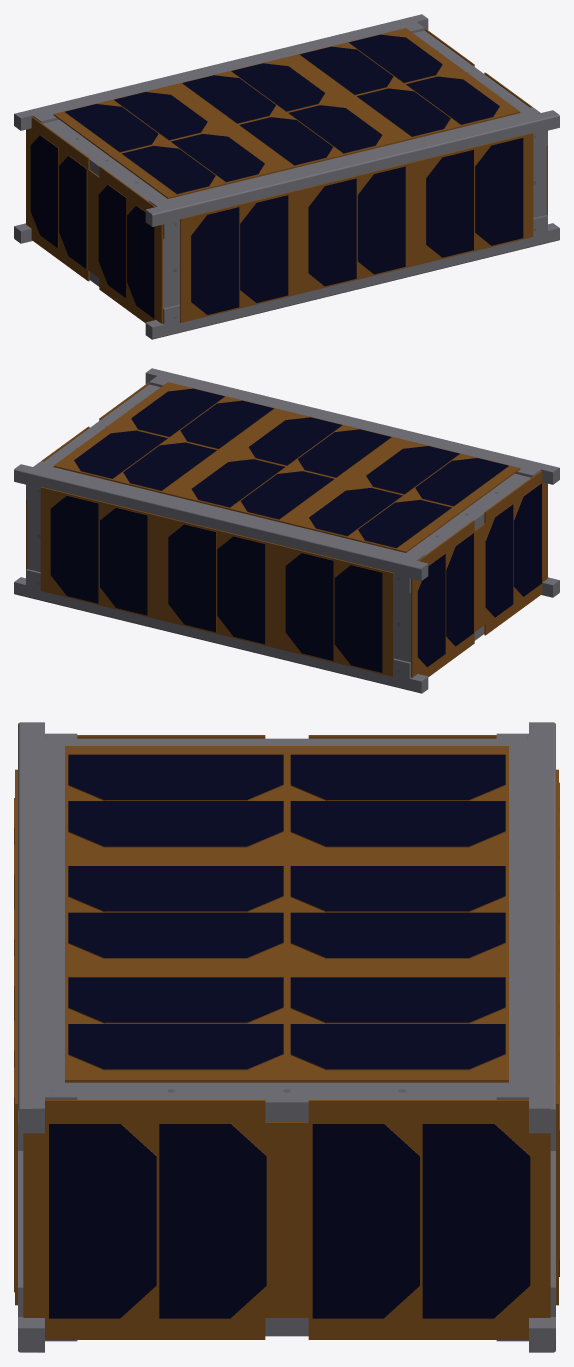
Rendered from cubesat_6u.dae.
The picture shows the model from 3 angles, top to bottom: view 1: azimuth 30°, elevation 25°; view 2: azimuth 150°, elevation 25°; view 3: azimuth 270°, elevation 25°; orthographic projection. The views are drawn at different scales.
Parts seen in each view (by area): view 1: Plus-Z-Cells, Minus-Y-Cells, 6U-Cubesat, Plus-Z-Plate, Minus-X-Cells, Minus-Y-Plate, Minus-X-Plate, Plus-X-Plate; view 2: Plus-Z-Cells, Plus-Y-Cells, 6U-Cubesat, Plus-Z-Plate, Minus-X-Cells, Plus-Y-Plate, Minus-X-Plate, Plus-X-Plate; view 3: Plus-Z-Cells, Plus-X-Cells, 6U-Cubesat, Plus-X-Plate, Plus-Z-Plate, Minus-Y-Plate, Plus-Y-Plate, Minus-X-Plate.
Part boxes in pixels (box(x1,y1,x2,y2)): Plus-Z-Cells: box(65, 34, 499, 193); Minus-Y-Cells: box(191, 138, 523, 314); 6U-Cubesat: box(14, 14, 559, 339); Plus-Z-Plate: box(53, 28, 520, 198); Minus-X-Cells: box(30, 135, 154, 318); Minus-Y-Plate: box(180, 133, 533, 322); Minus-X-Plate: box(26, 116, 162, 323); Plus-X-Plate: box(424, 28, 547, 215); Plus-Z-Cells: box(74, 388, 508, 547); Plus-Y-Cells: box(50, 496, 382, 672); 6U-Cubesat: box(14, 368, 559, 693); Plus-Z-Plate: box(53, 382, 520, 552); Minus-X-Cells: box(418, 483, 541, 667); Plus-Y-Plate: box(40, 487, 393, 676); Minus-X-Plate: box(411, 471, 547, 677); Plus-X-Plate: box(26, 382, 149, 569); Plus-Z-Cells: box(68, 754, 505, 1069); Plus-X-Cells: box(49, 1123, 530, 1318); 6U-Cubesat: box(18, 722, 555, 1352); Plus-X-Plate: box(23, 1100, 550, 1339); Plus-Z-Plate: box(65, 746, 508, 1082); Minus-Y-Plate: box(14, 769, 17, 1305); Plus-Y-Plate: box(556, 769, 559, 1305); Minus-X-Plate: box(77, 735, 496, 738).
Bounding box in the file's own units: 0.4016 × 0.2398 × 0.1217.
